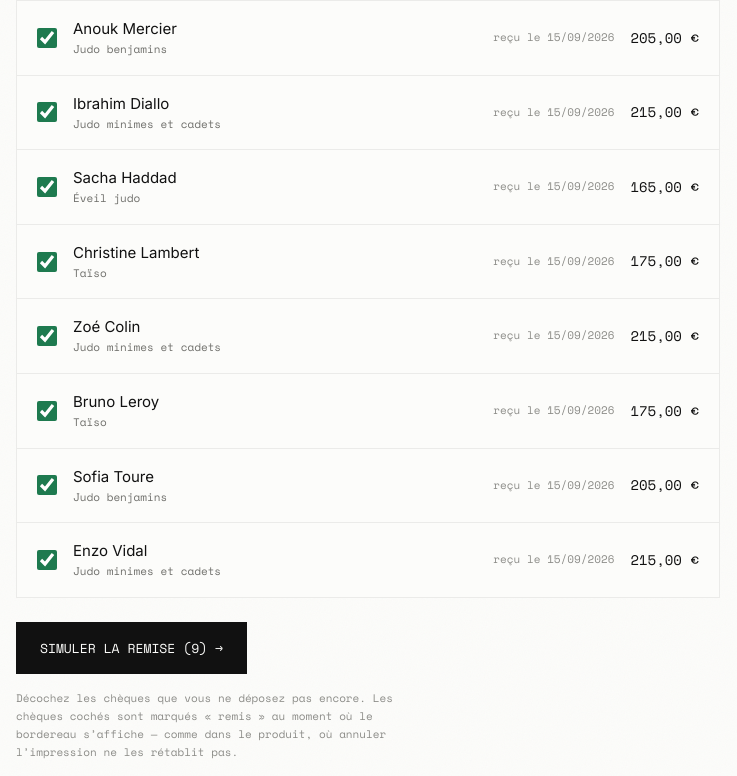
Scenario: la remise de chèques › sort les chèques remis de la liste active et garde le bordereau lisible
(page scrolled)
Click the button "SIMULER LA REMISE (9) →". click: point(132, 648)
box: x1=16 y1=622 x2=247 y2=674
Wait 450 ms
(page scrolled)
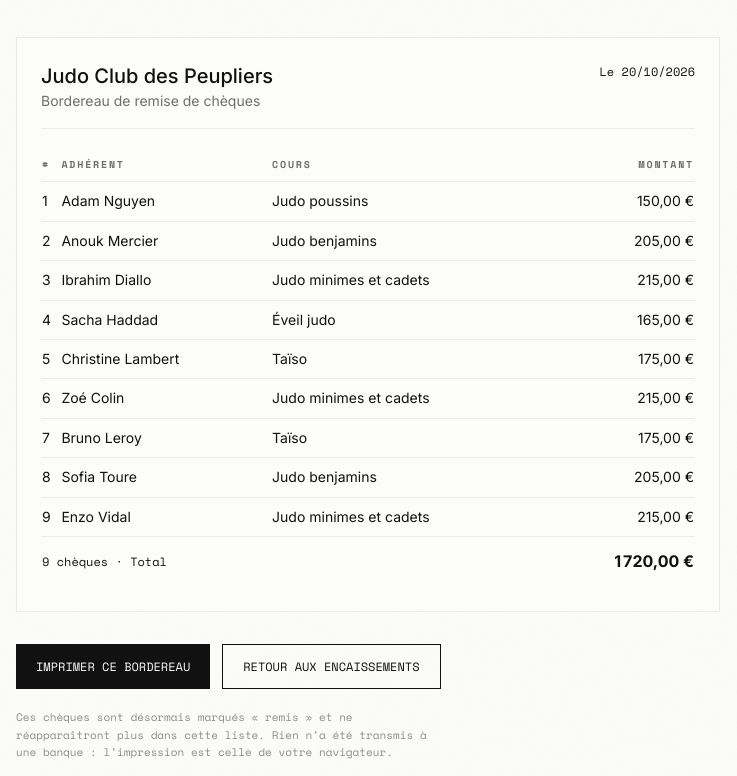
Result: the text "Bordereau de remise de chèques" is shown at x1=41 y1=90 x2=273 y2=112
